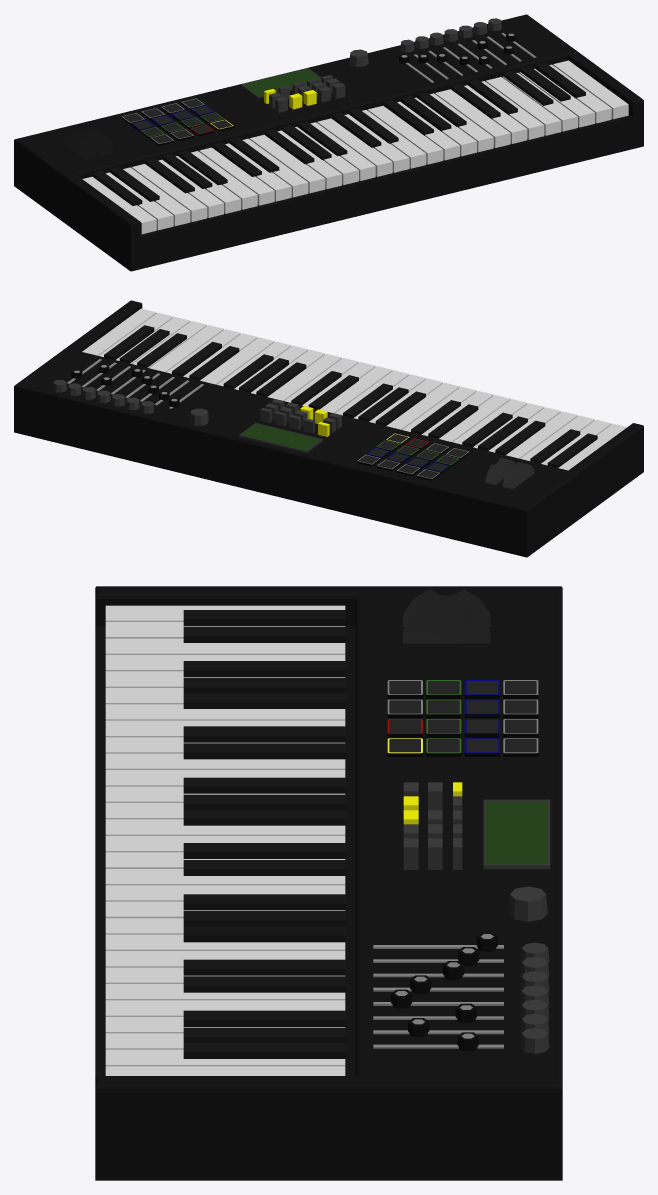
The model's file is Midi Keyboard10.fbx.
3 views of the same model, one above another, from view 1: azimuth 30°, elevation 25°; view 2: azimuth 150°, elevation 25°; view 3: azimuth 270°, elevation 25° (orthographic). The views are drawn at different scales.
Visible parts, largest first — view 1: 49keysmidi.011; view 2: 49keysmidi.011; view 3: 49keysmidi.011.
Boxes of the visible parts, <box> form: 49keysmidi.011: <box>14,14,643,271</box>; 49keysmidi.011: <box>14,300,643,557</box>; 49keysmidi.011: <box>95,586,562,1180</box>.
Bounding box in the file's own units: 70.72 × 8.01 × 27.9.
